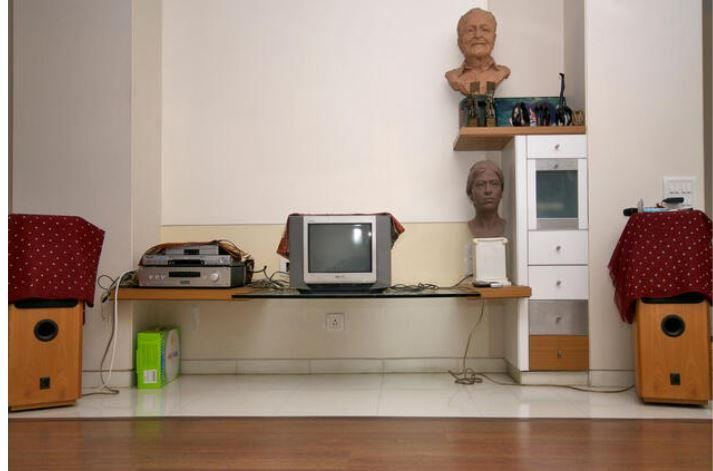TV: (286, 205, 397, 294)
table: (106, 280, 519, 316)
